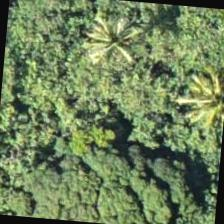Kelapa_Sawit: (70, 0, 168, 88), (158, 55, 223, 152)
